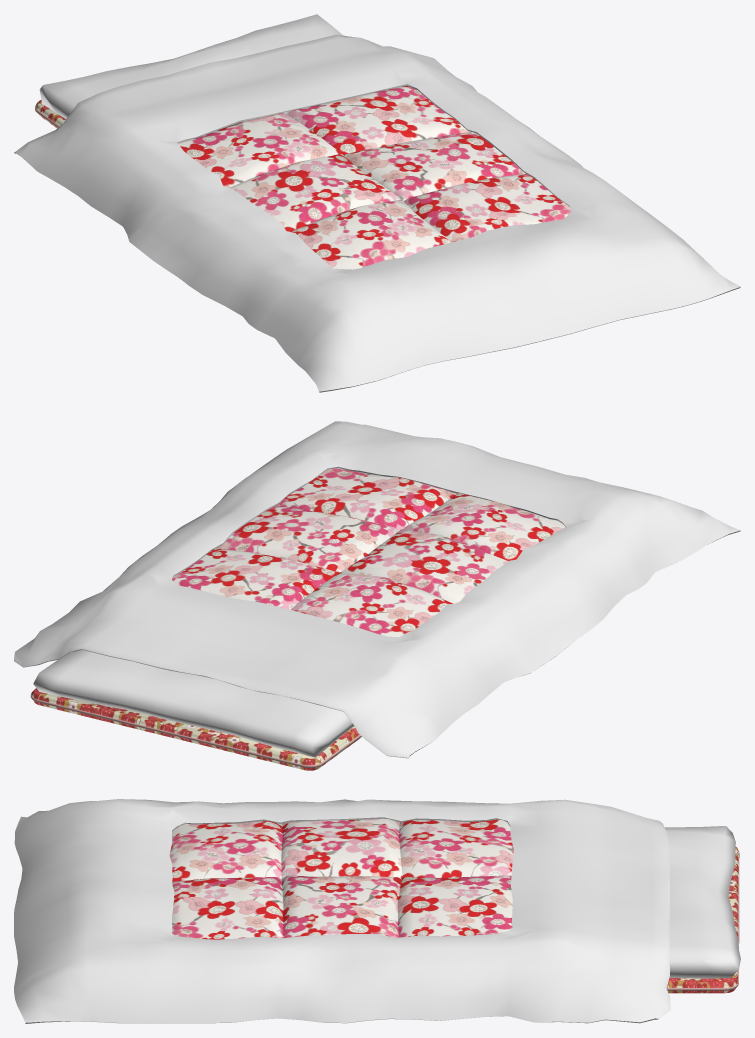
Rendered from sh_scopia_futon.glb.
3 views of the same model, one above another, from view 1: azimuth 30°, elevation 25°; view 2: azimuth 150°, elevation 25°; view 3: azimuth 270°, elevation 25° (orthographic).
Size of the model in its own units: 1.42 by 0.182 by 2.11.
5 materials, 2 textured.
